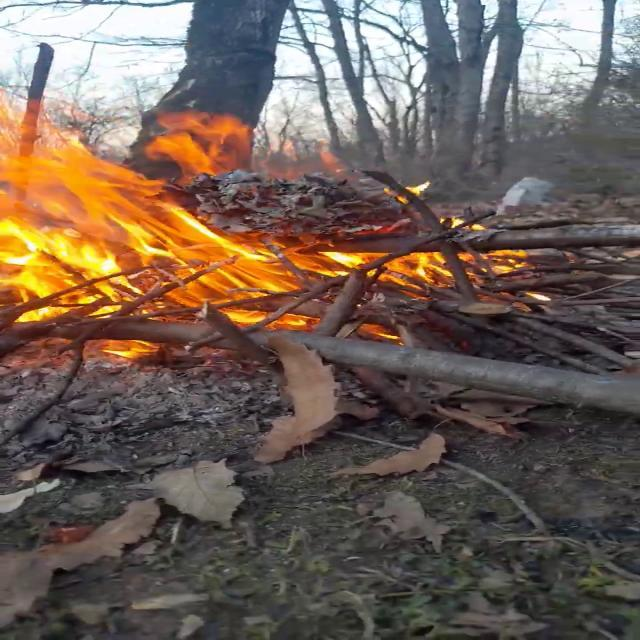Fire: (1, 89, 490, 359)
